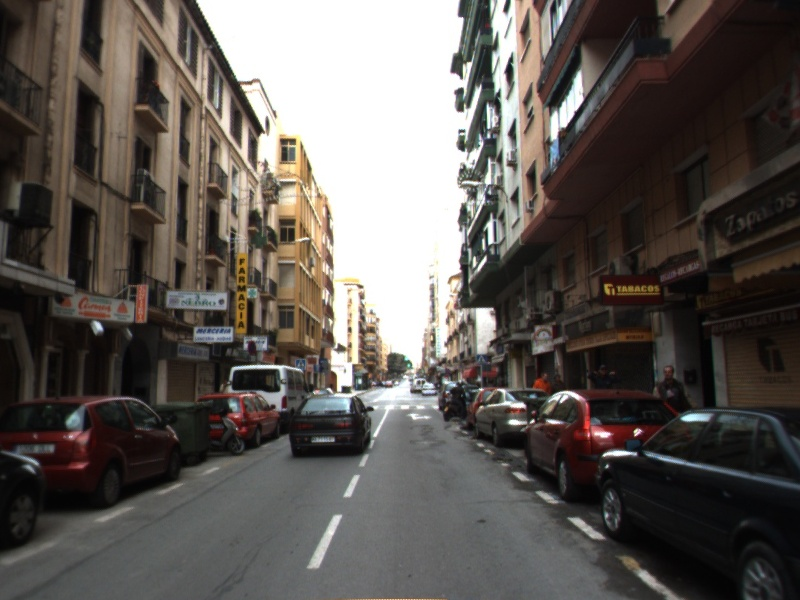STRAIGHT_RIGHT: (405, 411, 434, 421)
